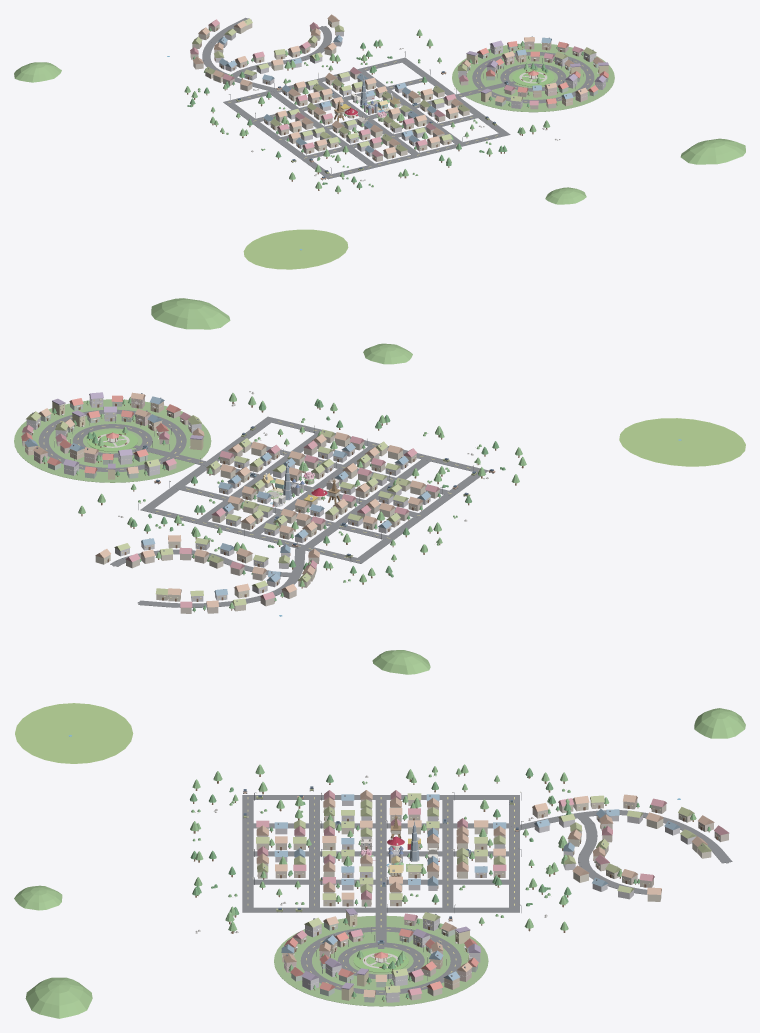
Rendered from live-road-placement-fix.glb.
3 renders of one model, top to bottom at view 1: azimuth 30°, elevation 25°; view 2: azimuth 150°, elevation 25°; view 3: azimuth 270°, elevation 25°, orthographic. The views are drawn at different scales.
Parts seen in each view (by area): view 1: pad.001, terrain_Meadow Run Green, terrain_North Ridge, ringroad.003, roadH, terrain_Willow Hill, roadV, roadV.004, roadH.001, roadH.004, roadV.001, terrain_Pine Knoll (+4 smaller); view 2: pad.001, terrain_Meadow Run Green, terrain_North Ridge, ringroad.003, roadH.004, terrain_Willow Hill, roadV, roadV.004, roadH.003, terrain_Pine Knoll, roadH, roadV.001 (+4 smaller); view 3: pad.001, terrain_Meadow Run Green, terrain_North Ridge, ringroad.003, roadH, roadH.003, roadH.002, roadV.004, roadH.001, terrain_Willow Hill, roadH.004, terrain_Pine Knoll (+4 smaller).
Boxes of the visible parts, bbox=[...] form: pad.001: bbox=[452, 43, 614, 112]; terrain_Meadow Run Green: bbox=[243, 229, 348, 269]; terrain_North Ridge: bbox=[680, 138, 745, 164]; ringroad.003: bbox=[472, 52, 594, 103]; roadH: bbox=[324, 131, 509, 178]; terrain_Willow Hill: bbox=[14, 62, 61, 82]; roadV: bbox=[224, 103, 332, 179]; roadV.004: bbox=[402, 60, 510, 135]; roadH.001: bbox=[299, 113, 484, 160]; roadH.004: bbox=[223, 57, 408, 104]; roadV.001: bbox=[271, 92, 374, 165]; terrain_Pine Knoll: bbox=[545, 187, 586, 204]; pad.001: bbox=[14, 399, 211, 482]; terrain_Meadow Run Green: bbox=[619, 418, 745, 466]; terrain_North Ridge: bbox=[151, 298, 230, 329]; ringroad.003: bbox=[38, 409, 186, 472]; roadH.004: bbox=[140, 506, 366, 563]; terrain_Willow Hill: bbox=[372, 650, 430, 674]; roadV: bbox=[354, 471, 487, 563]; roadV.004: bbox=[145, 420, 271, 508]; roadH.003: bbox=[171, 484, 396, 541]; terrain_Pine Knoll: bbox=[363, 343, 412, 364]; roadH: bbox=[263, 416, 488, 472]; roadV.001: bbox=[305, 459, 430, 550]; pad.001: bbox=[274, 915, 488, 1006]; terrain_Meadow Run Green: bbox=[15, 703, 133, 763]; terrain_North Ridge: bbox=[25, 977, 92, 1018]; ringroad.003: bbox=[300, 927, 461, 994]; roadH: bbox=[242, 795, 253, 912]; roadH.003: bbox=[442, 795, 453, 912]; roadH.002: bbox=[375, 795, 386, 909]; roadV.004: bbox=[242, 907, 519, 912]; roadH.001: bbox=[309, 795, 319, 912]; terrain_Willow Hill: bbox=[694, 708, 745, 738]; roadH.004: bbox=[509, 795, 519, 912]; terrain_Pine Knoll: bbox=[14, 885, 62, 910].
Size of what is drawn, in the model's own units: 404 by 25.22 by 396.
